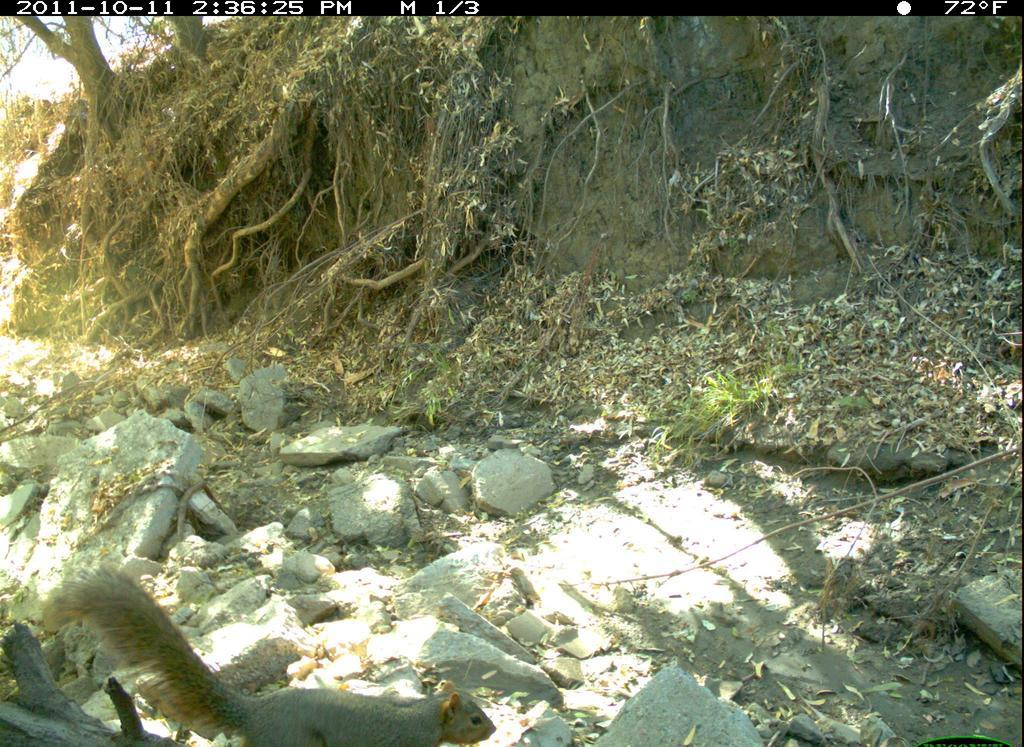squirrel: (31, 548, 509, 745)
